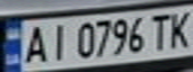0: (72, 18, 96, 60)
6: (127, 14, 151, 54)
7: (93, 17, 115, 59)
9: (109, 16, 133, 57)
A: (18, 21, 51, 65)
I: (45, 20, 72, 63)
K: (163, 7, 193, 50)
T: (145, 10, 172, 52)
